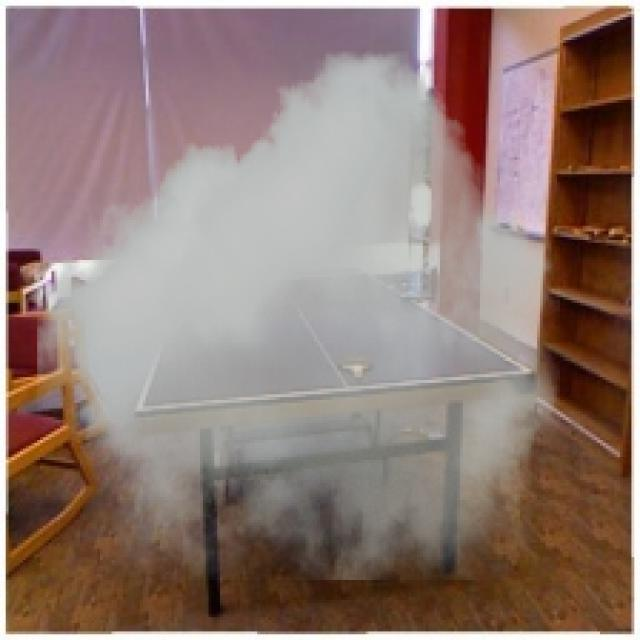smoke: (37, 51, 560, 580)
